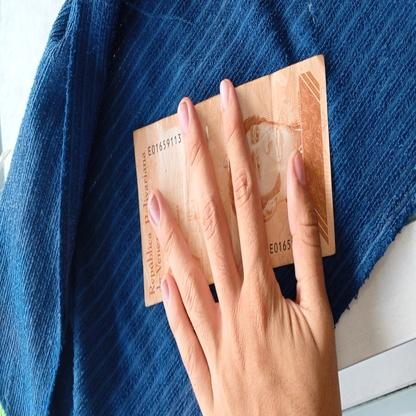twenty-front-vef: (131, 53, 336, 307)
